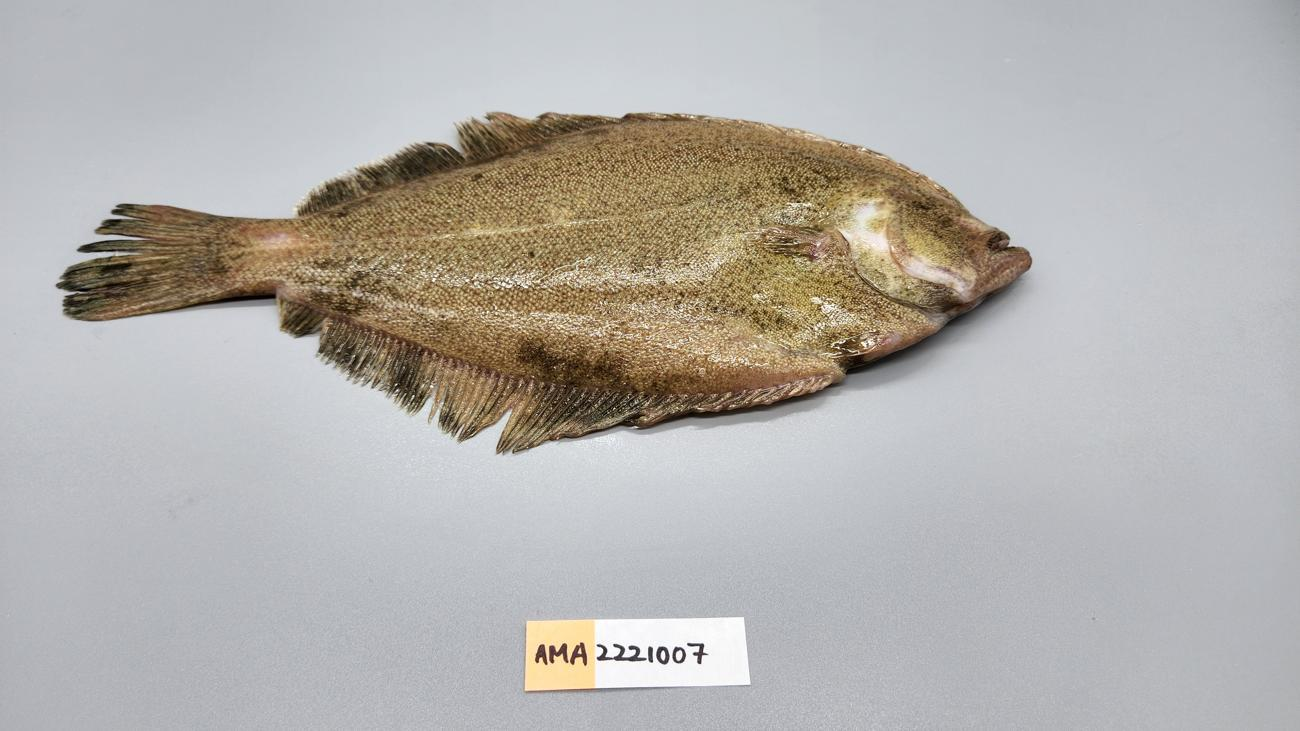MAOUY: (58, 111, 1033, 457)
